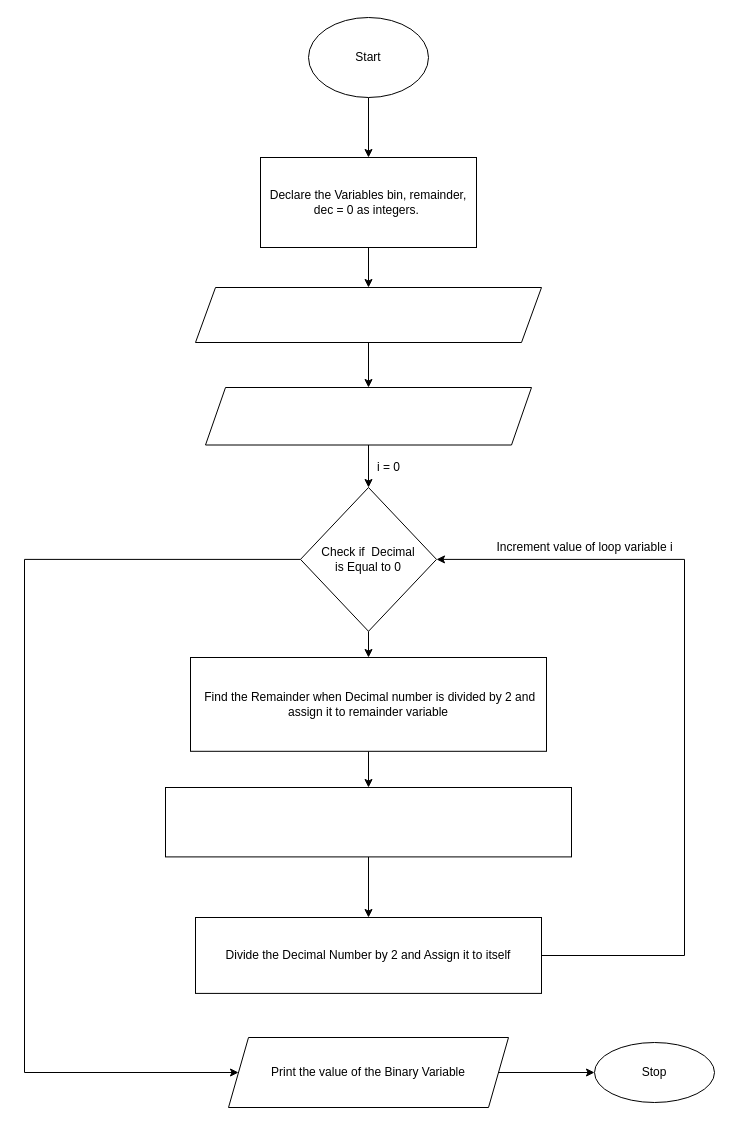
Some shapes in this 732 by 1125 pixel diagram are drawn without their labels. Each missing label, with the box of its shape:
Input the value Decimal Number from the user.: (204, 386, 532, 445)
Multiply Remainder by 10^i(loop variable) and assign it to binary: (164, 786, 572, 857)
Print "Enter the Decimal Number on the Screen": (194, 286, 542, 342)
